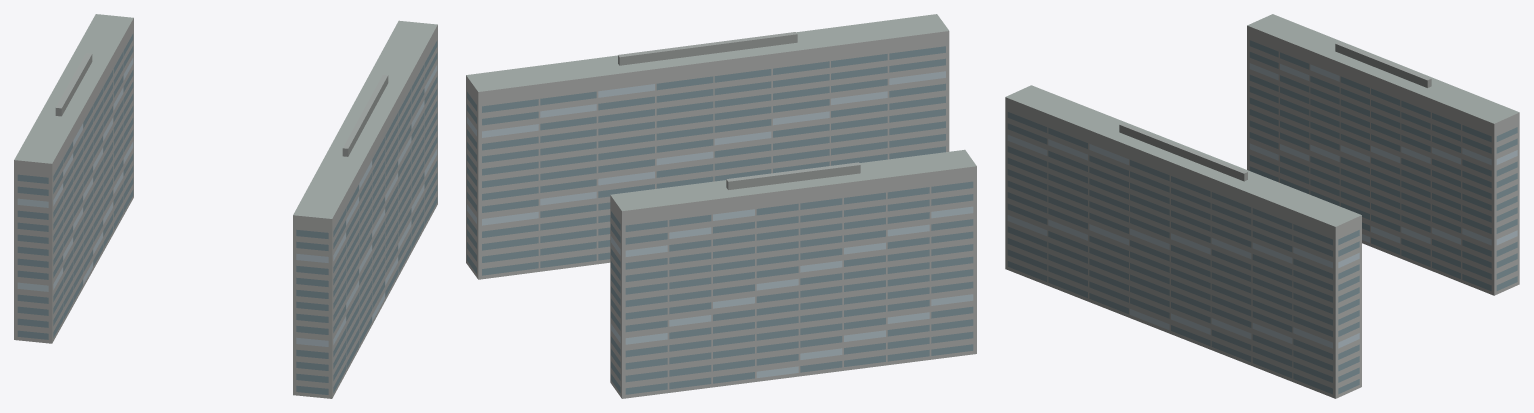
The model's file is apt-a15009201.glb.
3 views of the same model, side by side, from view 1: azimuth 30°, elevation 25°; view 2: azimuth 150°, elevation 25°; view 3: azimuth 270°, elevation 25° (orthographic). The views are drawn at different scales.
Parts seen in each view (by area): view 1: apt-a15009201; view 2: apt-a15009201; view 3: apt-a15009201.
Boxes of the visible parts, <box> form: apt-a15009201: <box>14,14,437,398</box>; apt-a15009201: <box>466,14,976,398</box>; apt-a15009201: <box>1005,14,1519,398</box>.
Size of the model in its own units: 122 by 47.81 by 124.
